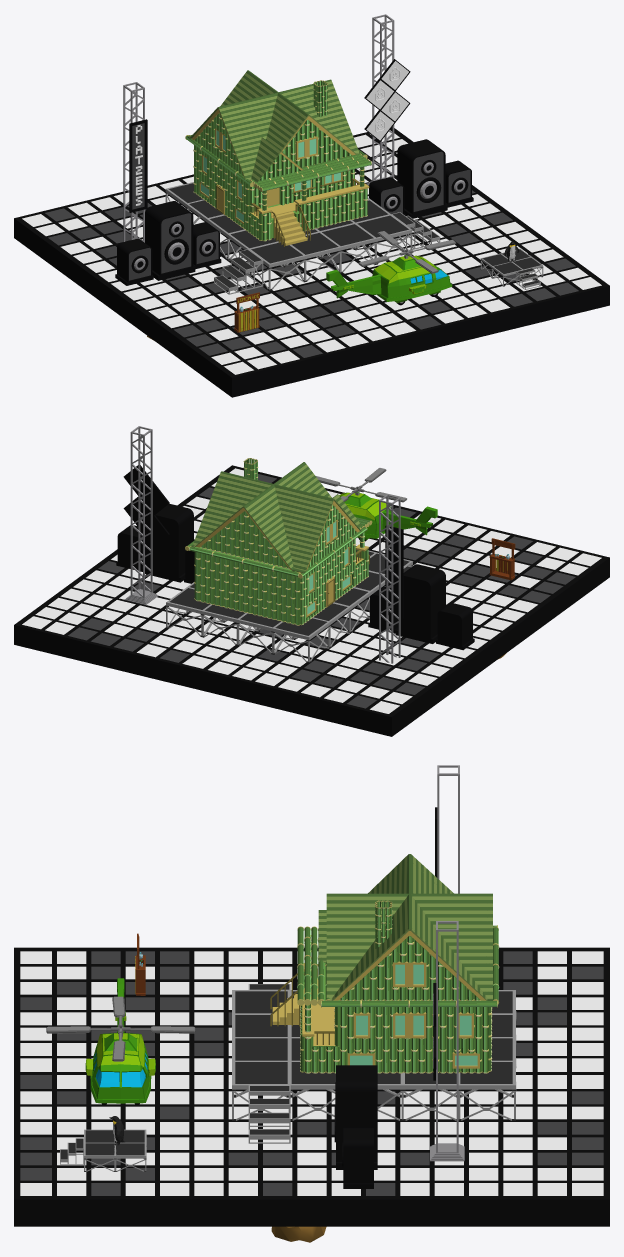
The picture shows the model from 3 angles, top to bottom: view 1: azimuth 30°, elevation 25°; view 2: azimuth 150°, elevation 25°; view 3: azimuth 270°, elevation 25°; orthographic projection. The views are drawn at different scales.
Parts seen in each view (by area): view 1: Cube.008, Cube.1327, VEHICLES_HELICOPTER, OBJRANDOM_LEMONADE_STAND; view 2: Cube.008, Cube.1327, VEHICLES_HELICOPTER, OBJRANDOM_LEMONADE_STAND; view 3: Cube.008, Cube.1327, VEHICLES_HELICOPTER, UNDERGROUND_T_REX_BONES.
Boxes of the visible parts, bbox=[...] form: Cube.008: bbox=[14, 14, 609, 397]; Cube.1327: bbox=[185, 70, 371, 246]; VEHICLES_HELICOPTER: bbox=[326, 231, 456, 305]; OBJRANDOM_LEMONADE_STAND: bbox=[234, 292, 259, 332]; Cube.008: bbox=[14, 426, 609, 736]; Cube.1327: bbox=[185, 458, 372, 625]; VEHICLES_HELICOPTER: bbox=[316, 468, 437, 541]; OBJRANDOM_LEMONADE_STAND: bbox=[489, 538, 515, 580]; Cube.008: bbox=[14, 765, 609, 1226]; Cube.1327: bbox=[270, 854, 499, 1073]; VEHICLES_HELICOPTER: bbox=[46, 978, 195, 1104]; UNDERGROUND_T_REX_BONES: bbox=[271, 1226, 326, 1242].
Bounding box in the file's own units: 4000 × 2085 × 4000.
39 materials, 2 textured.
